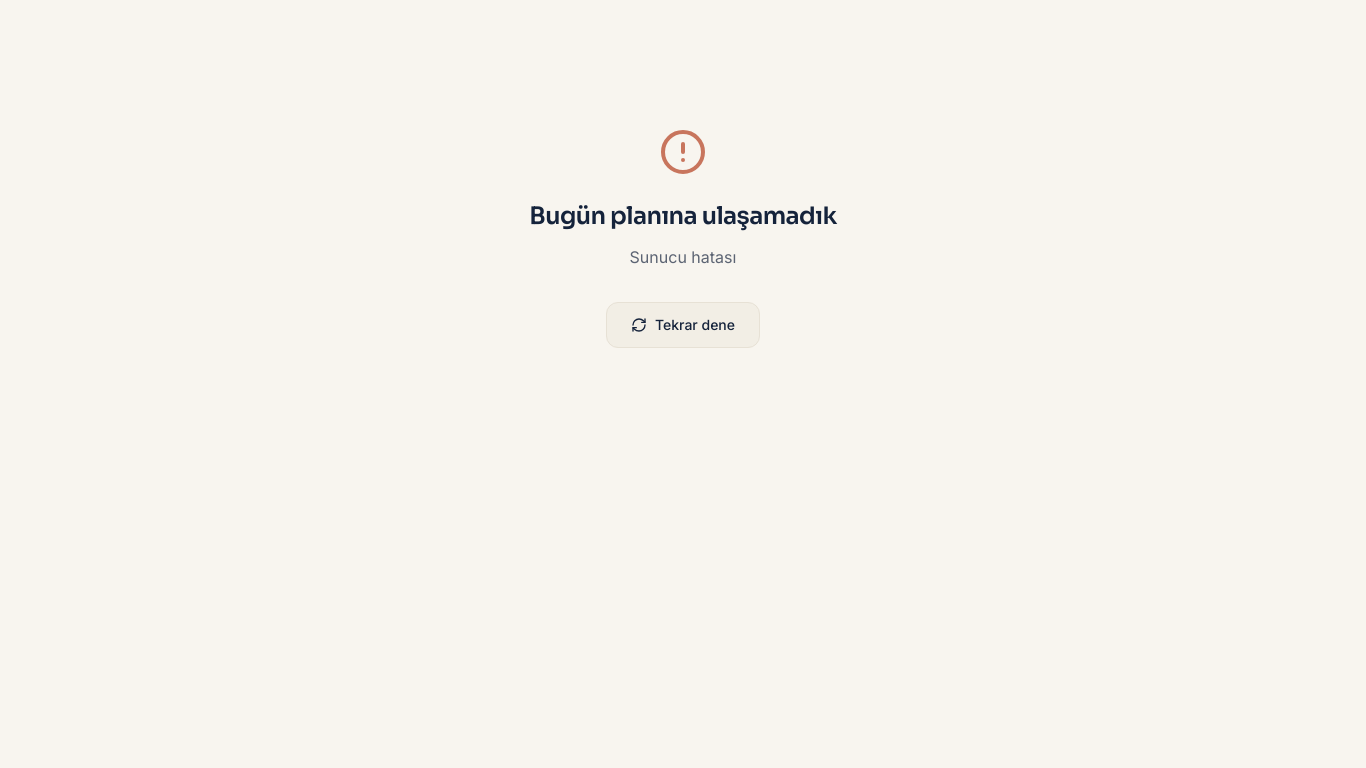
it: Bugun › retries the request when the retry button is pressed
Expected: the heading "Bugün planına ulaşamadık" is shown, [529, 200, 837, 232]
Step 1. Click the button "Tekrar dene" → (683, 325), box [606, 302, 760, 348]
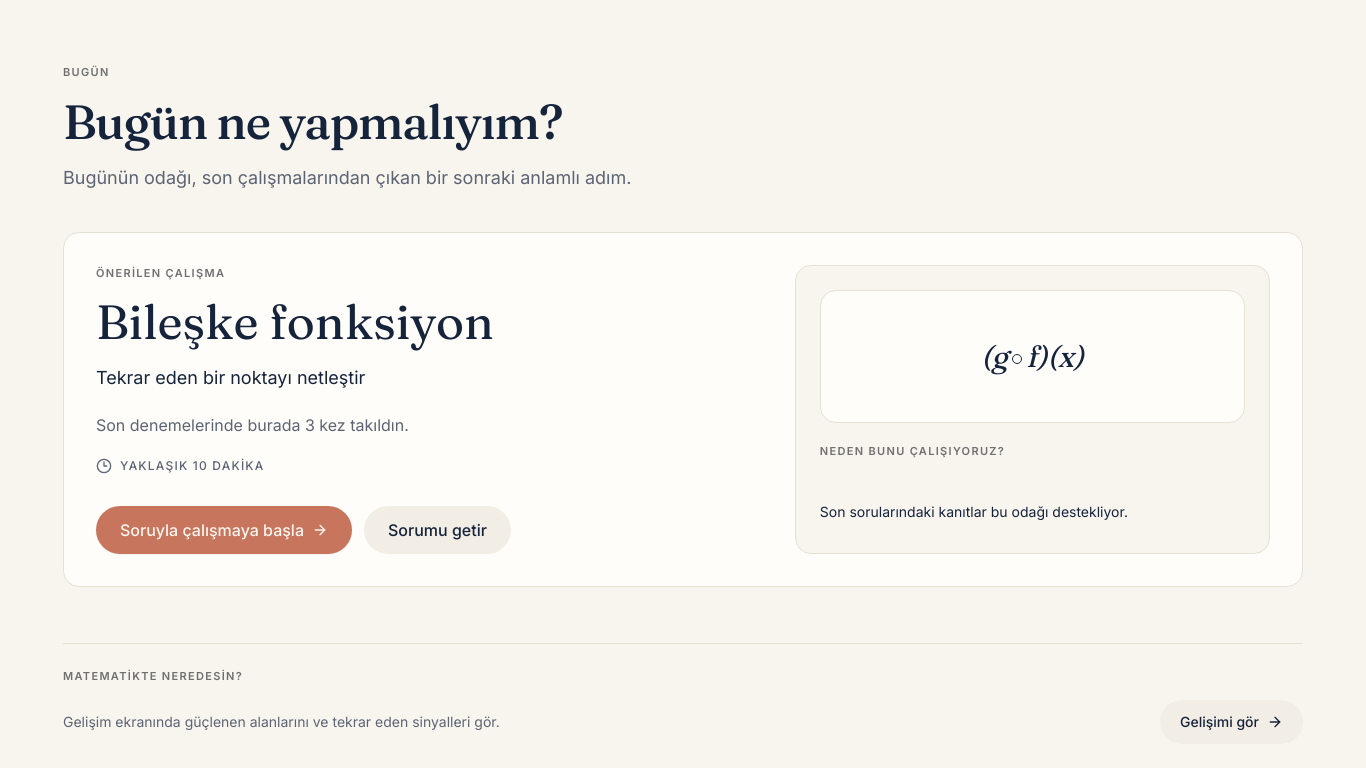
Expected: the heading "Bileşke fonksiyon" is shown, [96, 292, 494, 351]
